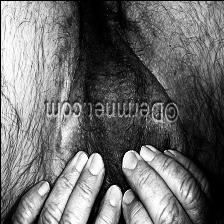Non-Cancerous Skin Condition: (52, 14, 80, 150), (112, 17, 152, 70), (182, 118, 204, 158)
